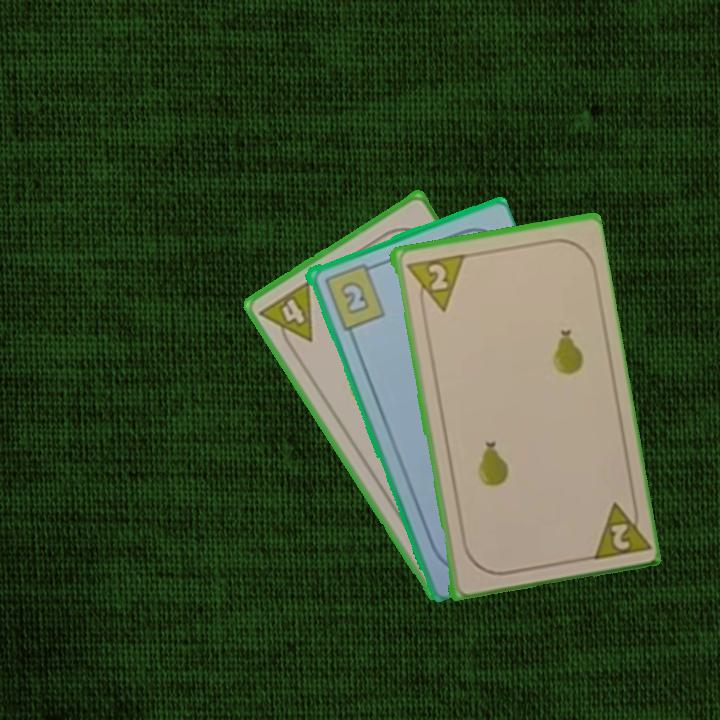2b: (320, 259, 388, 333)
2p: (585, 494, 650, 563), (402, 250, 465, 316)
4p: (255, 277, 316, 356)
